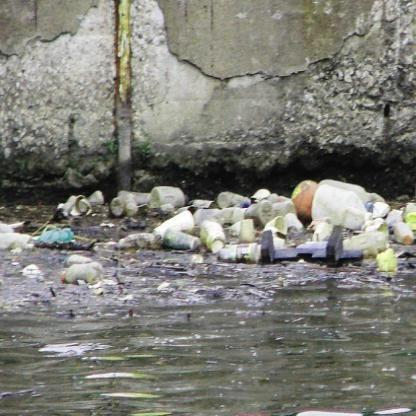Plastic: (310, 182, 375, 230), (54, 182, 105, 220), (58, 256, 104, 292), (24, 221, 74, 250), (219, 240, 265, 270), (149, 181, 190, 212), (109, 186, 150, 214), (166, 228, 202, 254), (200, 220, 225, 254), (217, 188, 252, 210), (242, 203, 272, 224), (394, 220, 415, 247), (264, 199, 293, 216), (236, 218, 258, 239), (400, 200, 416, 226)
Trash: (0, 216, 21, 252)
